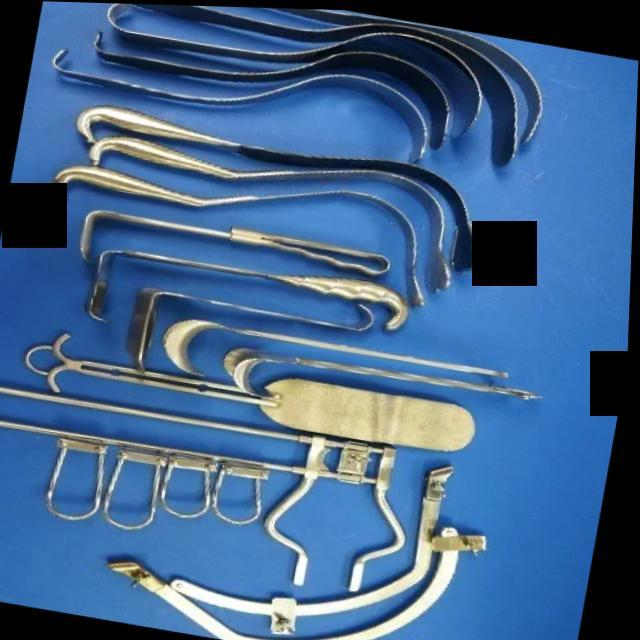Hrrington retractor: (51, 93, 514, 280), (74, 126, 470, 292)
